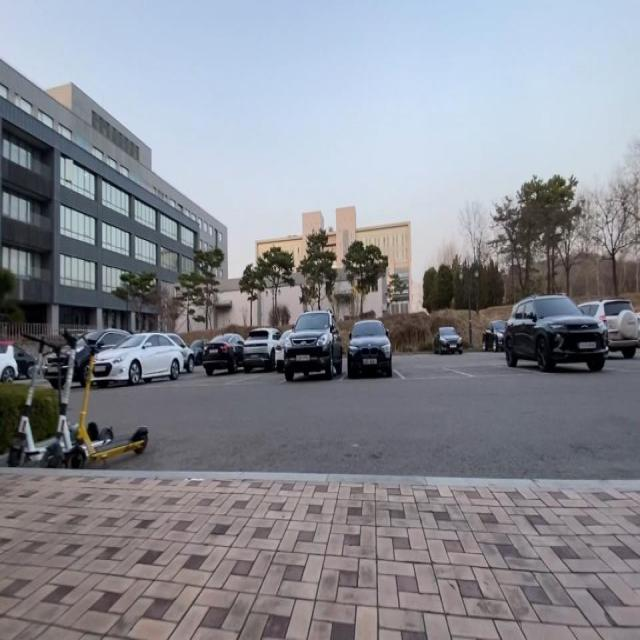sidewalk: (0, 465, 640, 640)
